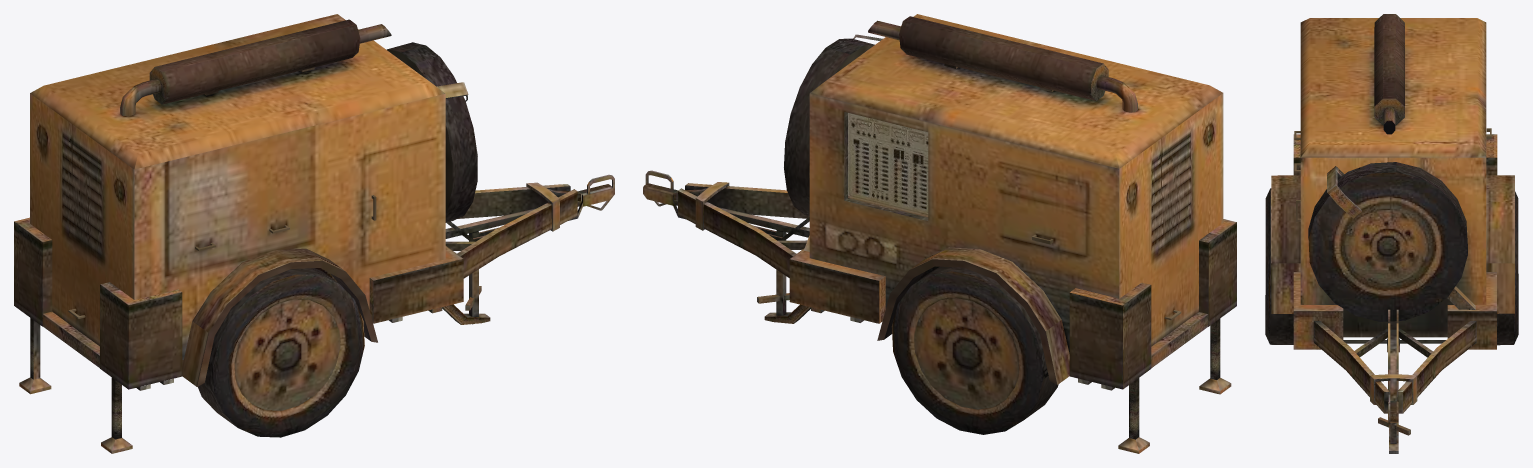
Rendered from generatortrailer01.glb.
3 views of the same model, side by side, from view 1: azimuth 30°, elevation 25°; view 2: azimuth 150°, elevation 25°; view 3: azimuth 270°, elevation 25° (orthographic). The views are drawn at different scales.
Visible parts, largest first — view 1: 0_generatortrailer01; view 2: 0_generatortrailer01; view 3: 0_generatortrailer01.
Boxes of the visible parts, bbox=[...] form: 0_generatortrailer01: bbox=[14, 14, 614, 453]; 0_generatortrailer01: bbox=[643, 14, 1236, 453]; 0_generatortrailer01: bbox=[1265, 14, 1518, 453].
Bounding box in the file's own units: 3.33 × 1.94 × 1.51.
1 material, 1 textured.
